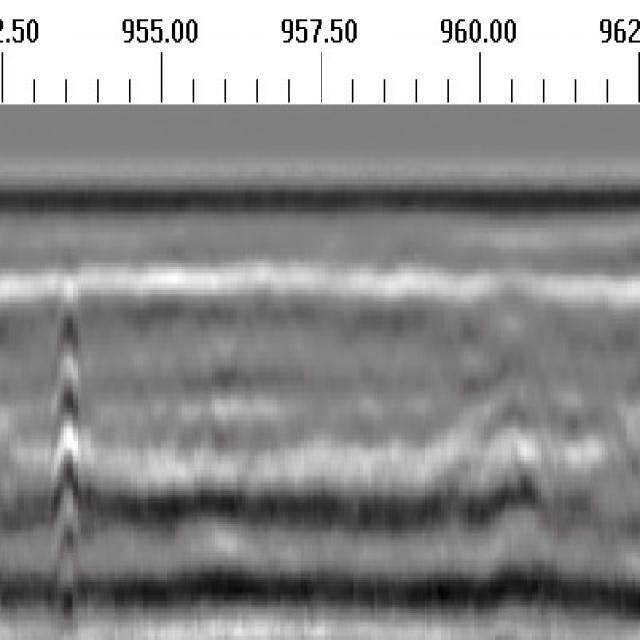crack: (47, 251, 81, 634)
